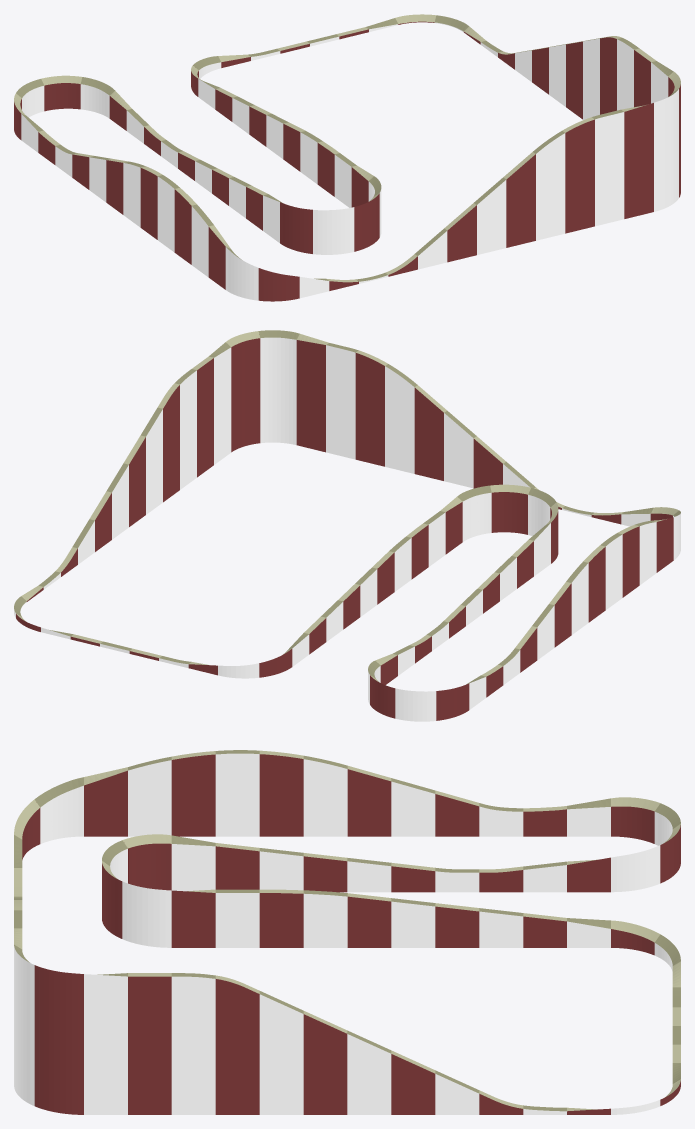
The model's file is roller-coaster.glb.
3 views of the same model, one above another, from view 1: azimuth 30°, elevation 25°; view 2: azimuth 150°, elevation 25°; view 3: azimuth 270°, elevation 25° (orthographic). The views are drawn at different scales.
Visible parts, largest first — view 1: roller-coaster; view 2: roller-coaster; view 3: roller-coaster.
Part boxes in pixels (x1,y1,x2,y2): roller-coaster: (14, 14, 680, 301); roller-coaster: (14, 330, 680, 721); roller-coaster: (14, 750, 680, 1114).
Bounding box in the file's own units: 30.38 × 7.1 × 30.38.
